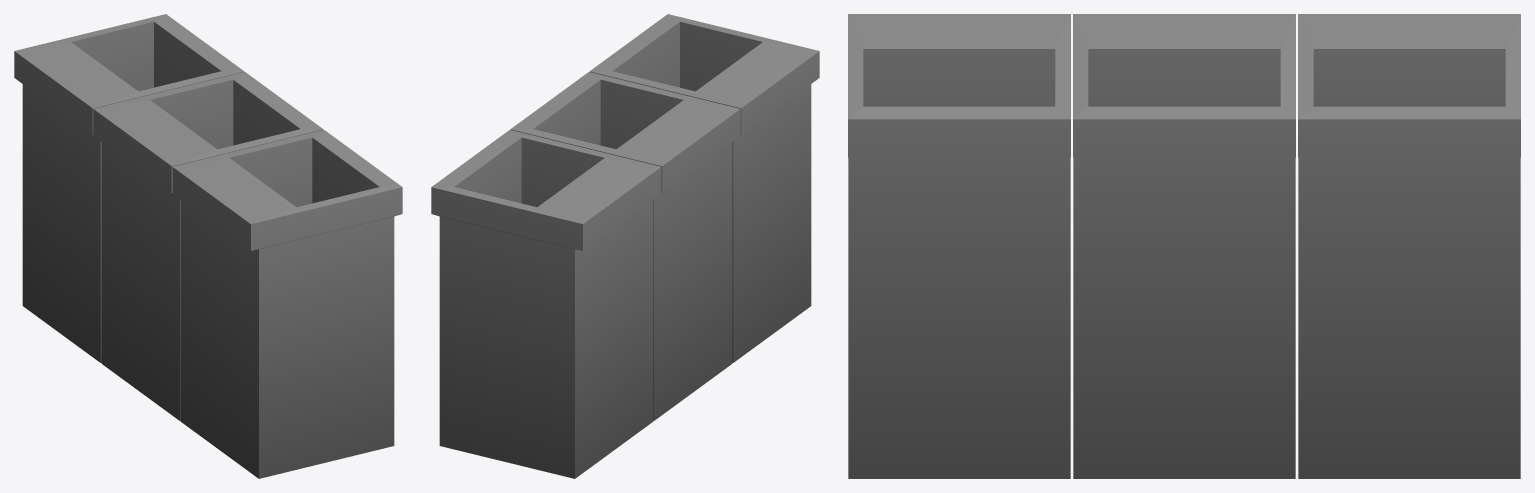
Rendered from TempatSampah.fbx.
The picture shows the model from 3 angles, left to right: view 1: azimuth 30°, elevation 25°; view 2: azimuth 150°, elevation 25°; view 3: azimuth 270°, elevation 25°; orthographic projection. The views are drawn at different scales.
Parts seen in each view (by area): view 1: TempatSampah_LOD0; view 2: TempatSampah_LOD0; view 3: TempatSampah_LOD0.
Part boxes in pixels (x1,y1,x2,y2): TempatSampah_LOD0: [14, 14, 402, 478]; TempatSampah_LOD0: [431, 14, 819, 478]; TempatSampah_LOD0: [848, 14, 1520, 478].
Size of what is drawn, in the model's own units: 42.08 by 68.17 by 114.
